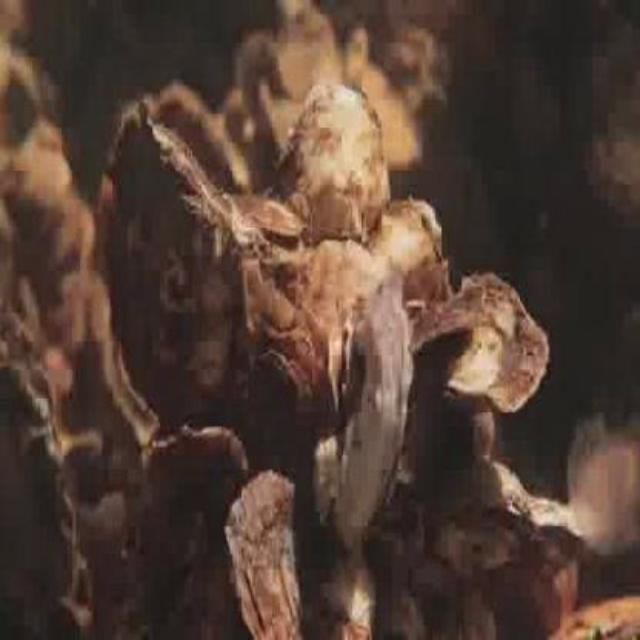Oyster-Closed: (110, 108, 247, 432), (0, 303, 93, 638), (335, 271, 411, 553), (272, 83, 387, 242), (429, 271, 549, 411), (227, 472, 317, 638), (141, 425, 245, 548), (150, 82, 253, 194), (254, 339, 319, 470), (371, 199, 447, 311), (305, 242, 383, 335), (359, 63, 418, 166), (312, 552, 374, 638), (285, 3, 340, 97), (512, 487, 593, 547), (411, 286, 482, 354), (432, 518, 518, 573), (533, 546, 580, 637), (551, 595, 638, 638), (242, 33, 287, 116), (232, 192, 302, 238), (258, 91, 285, 179), (345, 29, 368, 85)
Oyster-Open: (329, 311, 360, 419)
